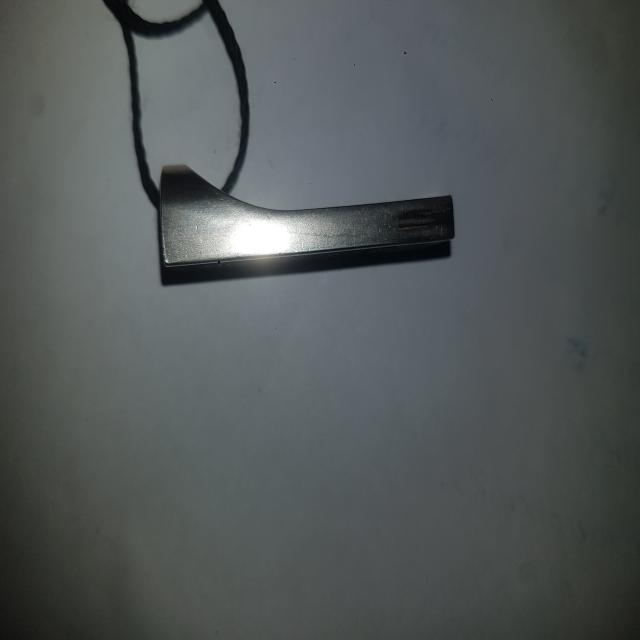electronic: (158, 162, 455, 274)
